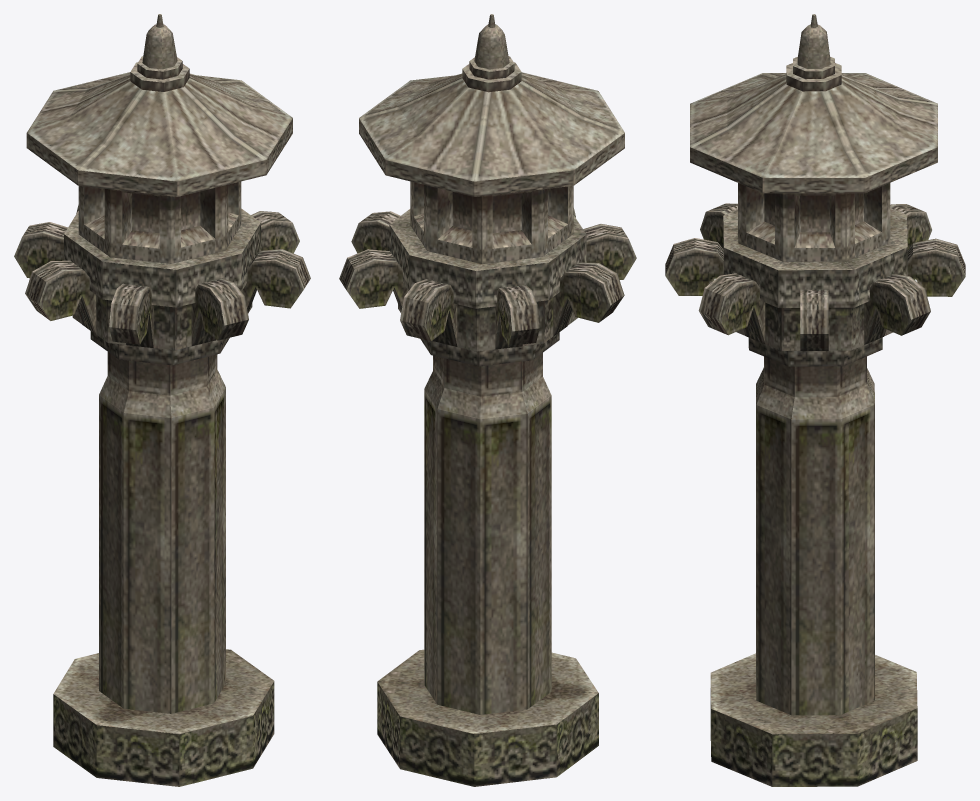
The model's file is c1_018-stonelight-1.fbx.
3 renders of one model, left to right at view 1: azimuth 30°, elevation 25°; view 2: azimuth 150°, elevation 25°; view 3: azimuth 270°, elevation 25°, orthographic.
Visible parts, largest first — view 1: Cone21; view 2: Cone21; view 3: Cone21.
Boxes of the visible parts, x1,y1,x2,y2 form: Cone21: (14,14,310,786); Cone21: (339,14,636,786); Cone21: (665,14,965,786).
Size of the model in its own units: 1.87 by 4.99 by 1.87.
